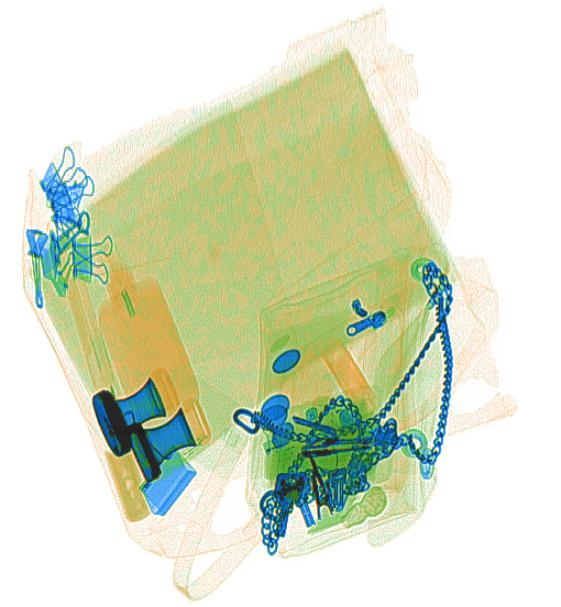plasticBottleWithaNozzle: (94, 237, 200, 431)
seal: (90, 366, 181, 457), (122, 395, 211, 483)
